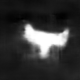plane: (21, 22, 72, 61)
